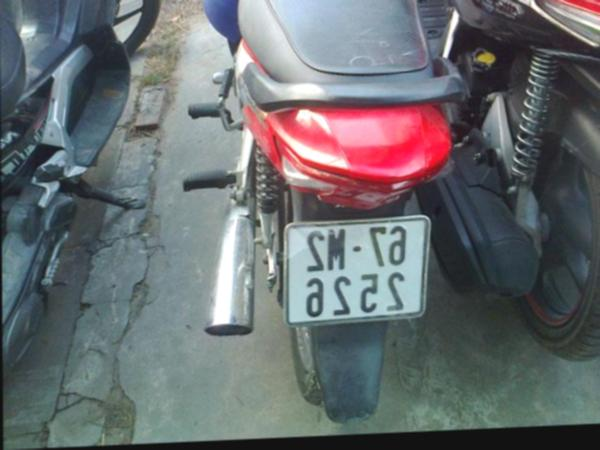License_Plate: (289, 217, 427, 325)
